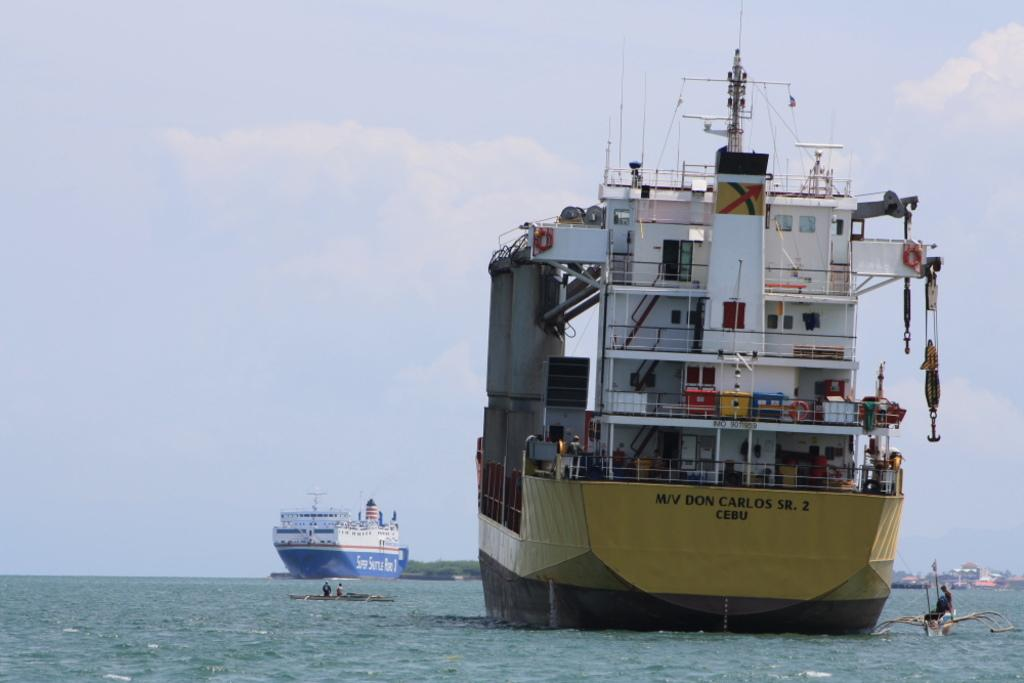PassengerShip: (270, 490, 416, 585)
